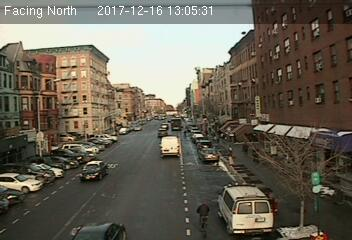bicycle: (196, 200, 213, 240)
car: (82, 161, 107, 181), (199, 146, 219, 162)
police: (216, 181, 273, 237)
truck: (160, 136, 179, 158)
